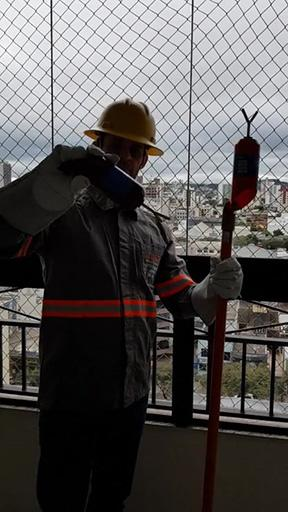Detector_Tensao_Contato: (76, 149, 173, 227), (229, 107, 260, 212)
Vara_Manobra: (201, 211, 238, 512)
